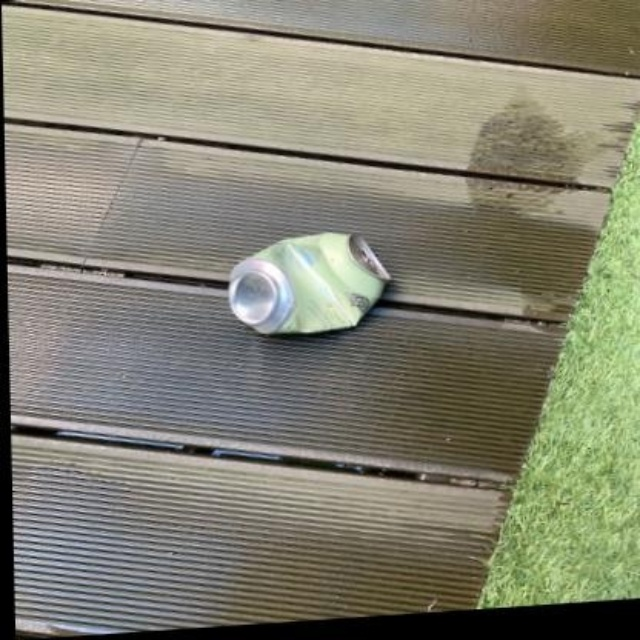trash: (229, 232, 389, 332)
